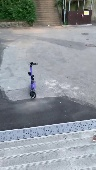beam: (26, 59, 40, 99)
